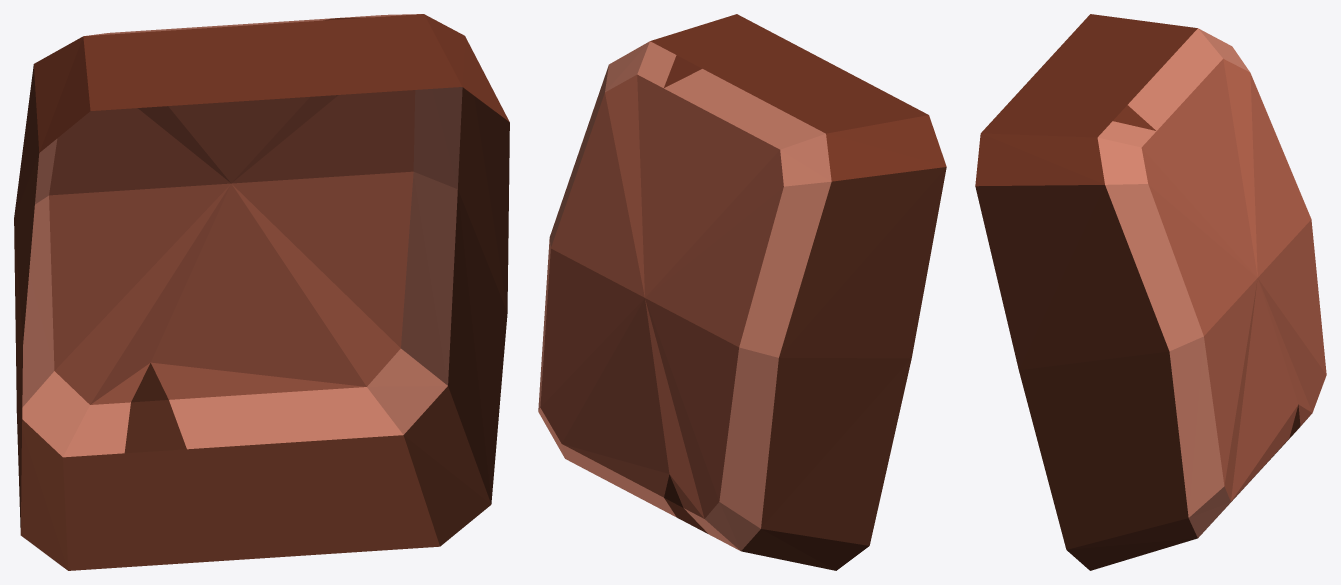
File: BetDecreaseButton.fbx
3 views of the same model, side by side, from view 1: azimuth 30°, elevation 25°; view 2: azimuth 150°, elevation 25°; view 3: azimuth 270°, elevation 25° (orthographic). The views are drawn at different scales.
Visible parts, largest first — view 1: BetButton01MDL; view 2: BetButton01MDL; view 3: BetButton01MDL.
Part boxes in pixels (x1,y1,x2,y2): BetButton01MDL: [14, 14, 509, 570]; BetButton01MDL: [538, 14, 946, 570]; BetButton01MDL: [975, 14, 1326, 570].
Bounding box in the file's own units: 1.44 × 1.61 × 1.2.
